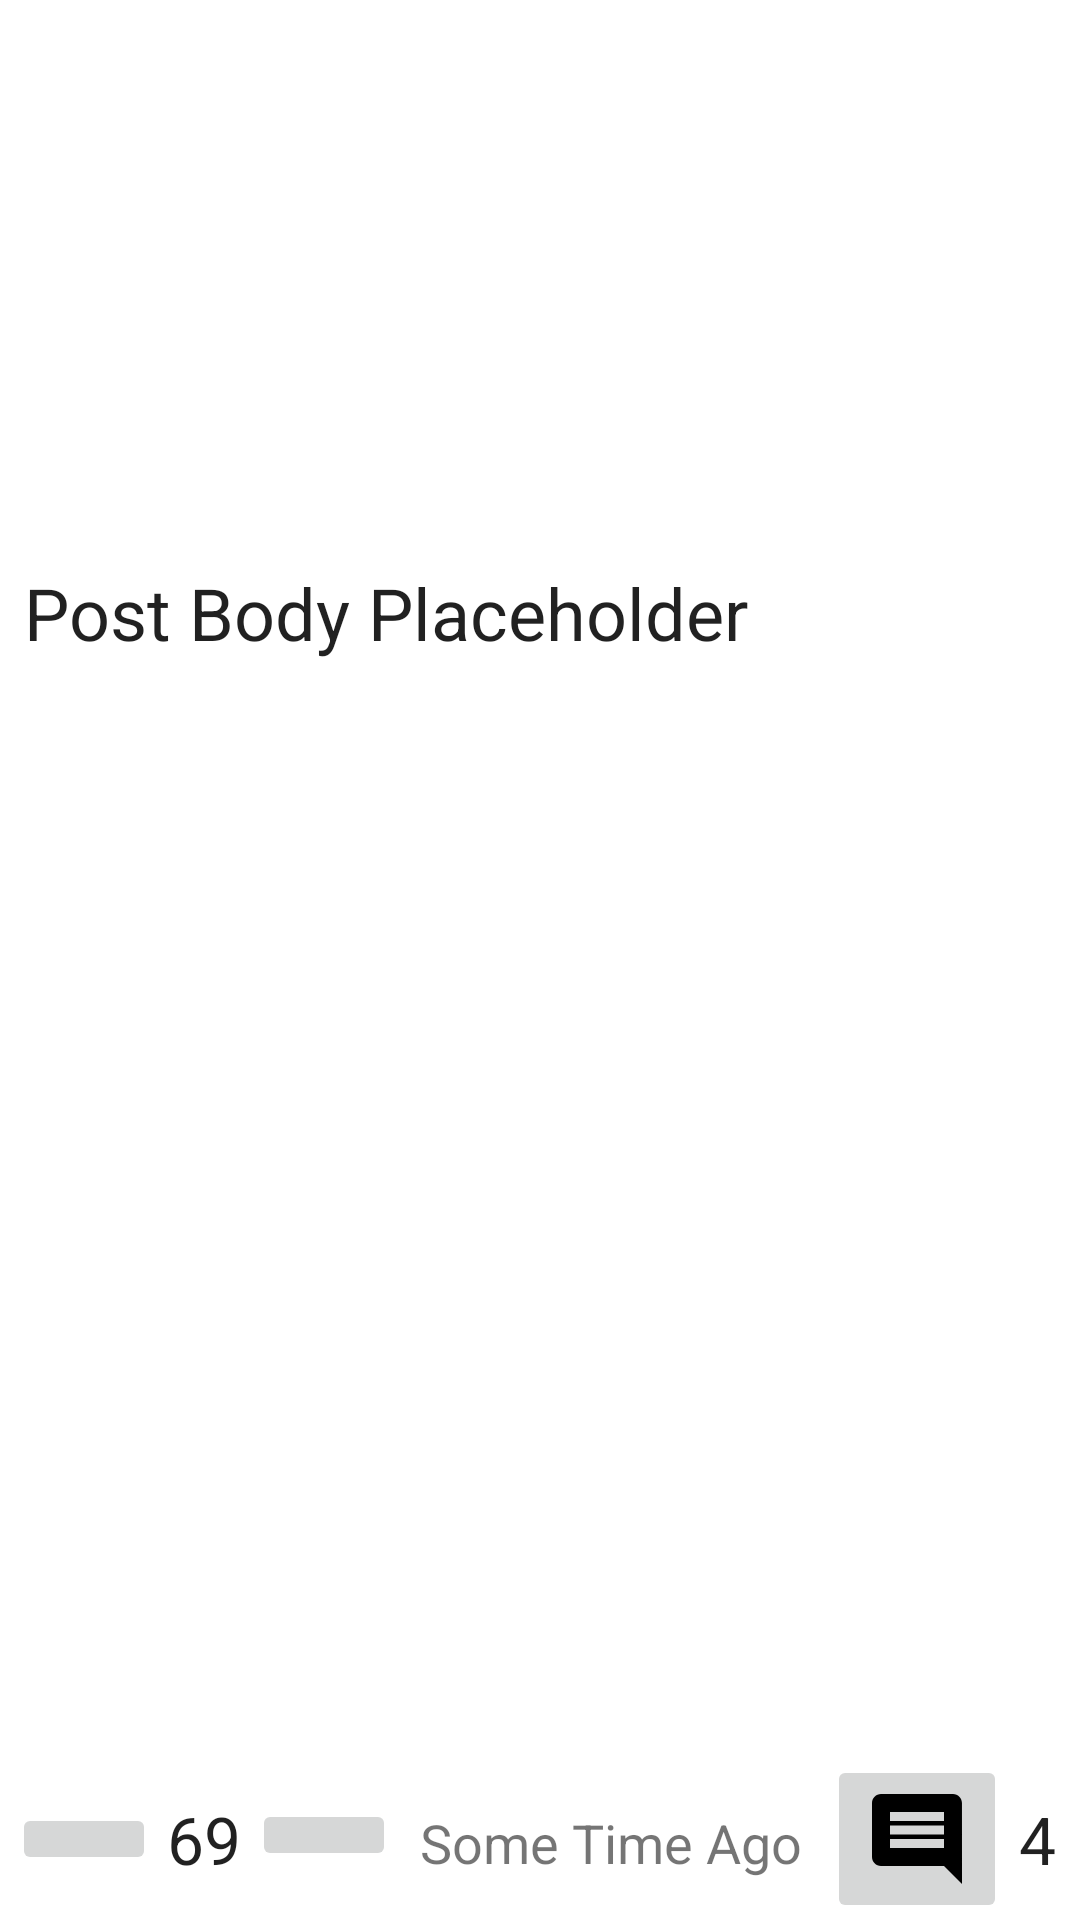

Where to tap for icons on this 1080px x 1920px app screen, as point (x, y):
Comment: point (917, 1839)
